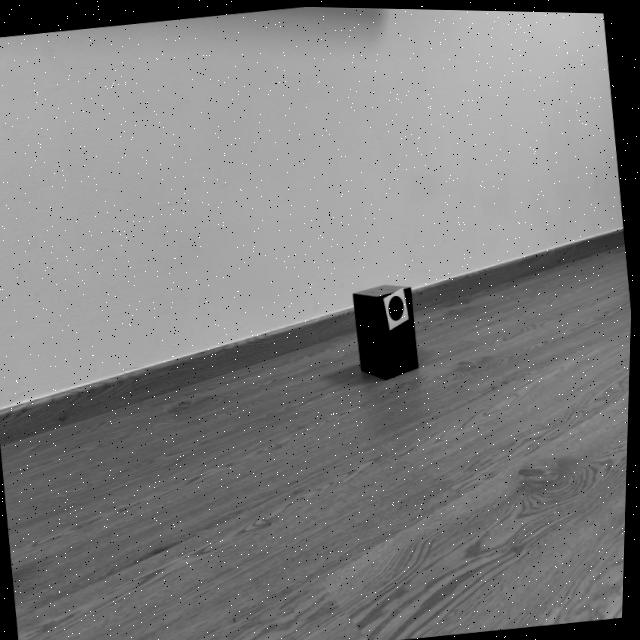CIRCLE: (390, 293, 406, 319)
